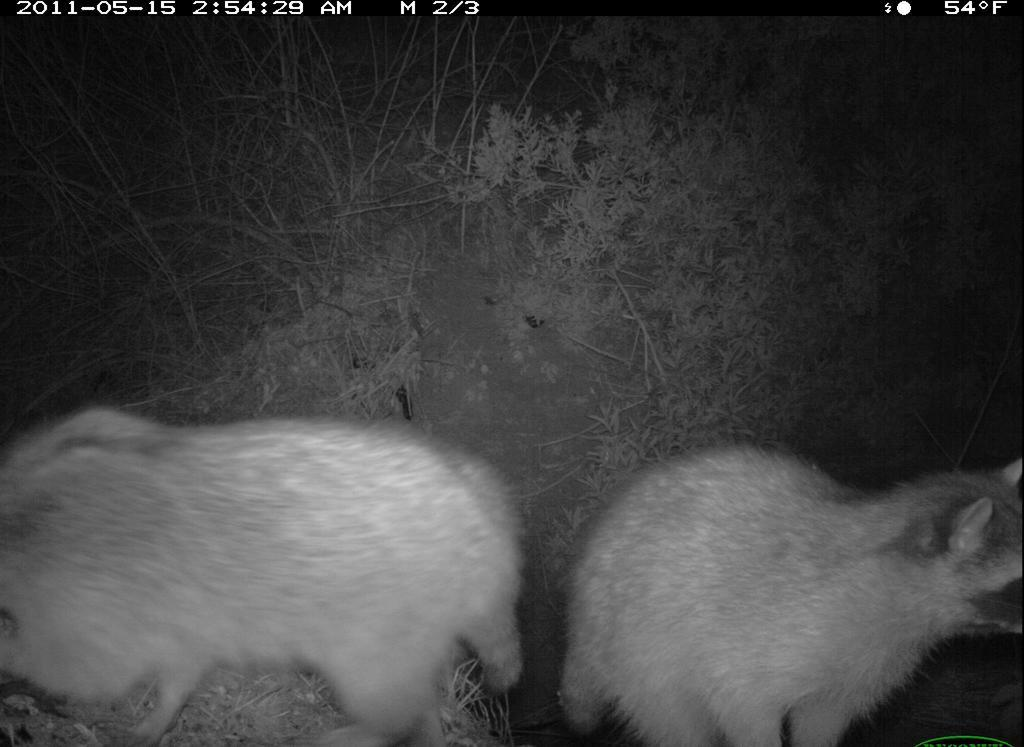raccoon: (4, 402, 538, 747), (552, 423, 1024, 747)
